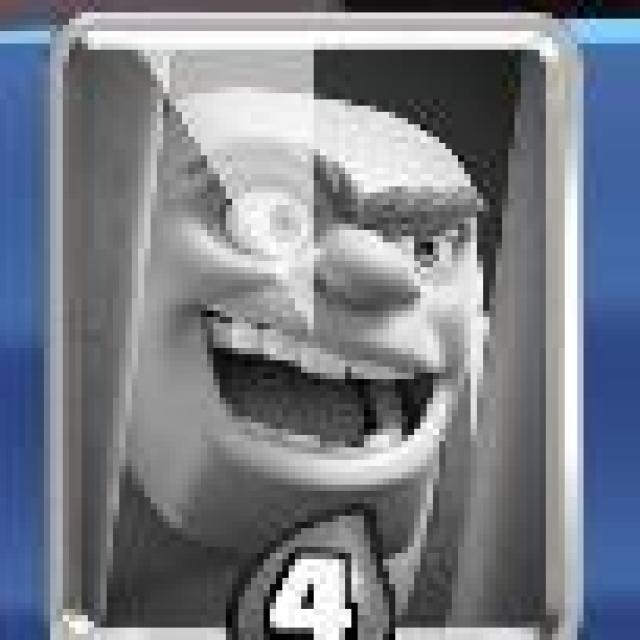Goblin_Cage: (38, 9, 584, 640)
